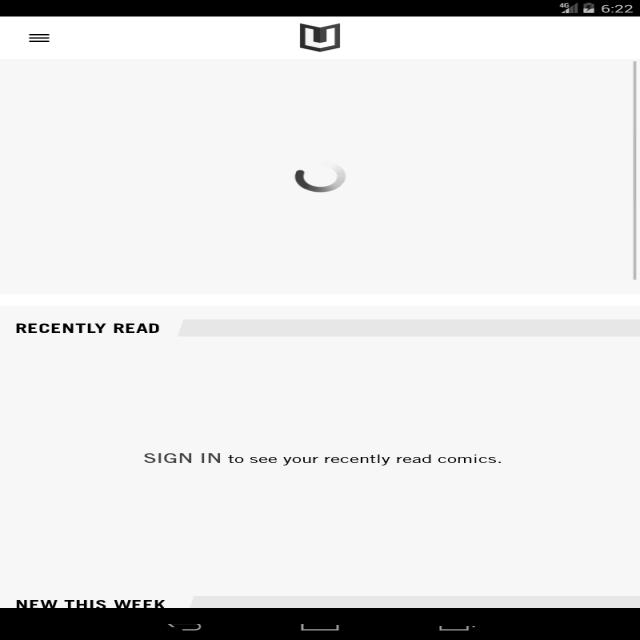ImageButton: (18, 27, 63, 51)
ImageView: (282, 17, 358, 54)
Spinner: (278, 148, 362, 200)
TextView: (122, 440, 512, 478), (6, 313, 168, 335)
